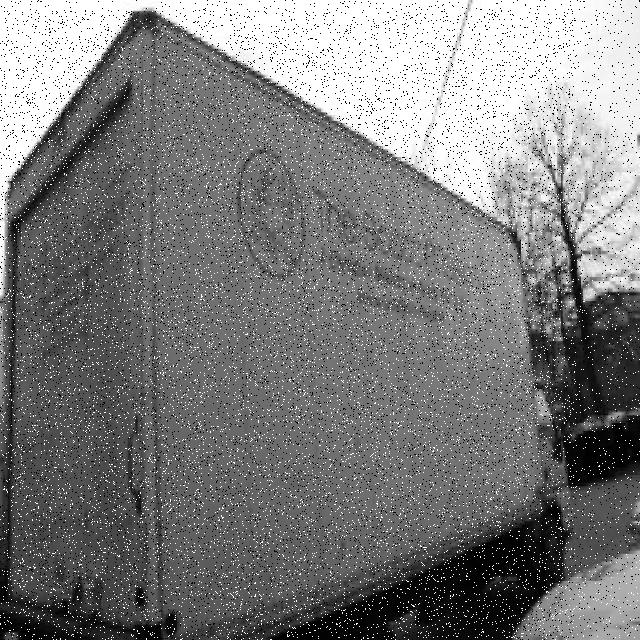Box Truck: (0, 11, 576, 640)
